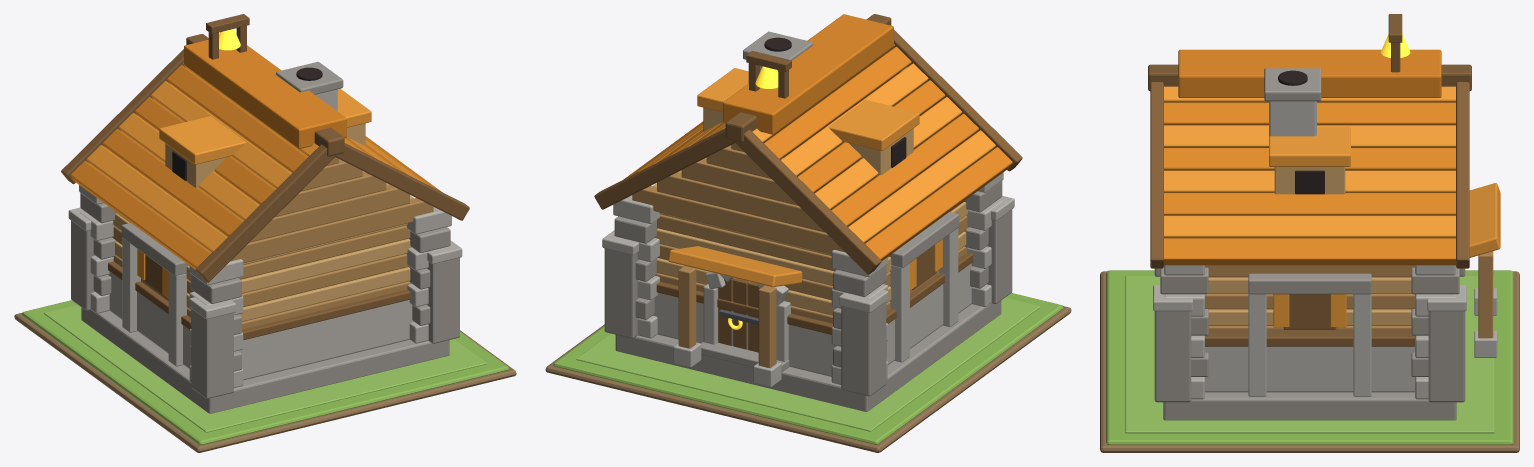
File: town_hall_lv3.glb
3 views of the same model, side by side, from view 1: azimuth 30°, elevation 25°; view 2: azimuth 150°, elevation 25°; view 3: azimuth 270°, elevation 25° (orthographic). The views are drawn at different scales.
Parts seen in each view (by area): view 1: StoneWainscot, StoneFoundation, Base_Inner, UpperRidgeTier, Base_Grass, Base_Dirt, Gable_-1_0, RoofSlope_-1_7, RoofSlope_-1_6, RoofSlope_-1_1, RoofSlope_-1_5, Bargeboard_-1_-1 (+34 smaller); view 2: Base_Inner, Base_Grass, UpperRidgeTier, StoneFoundation, StoneWainscot, Base_Dirt, Gable_1_0, RoofSlope_-1_7, RoofSlope_-1_6, RoofSlope_-1_1, RoofSlope_-1_5, CornerButtress_-1_1 (+46 smaller); view 3: Base_Inner, Base_Grass, UpperRidgeTier, RoofSlope_1_7, StoneWainscot, StoneFoundation, RoofSlope_1_6, RoofSlope_1_5, Base_Dirt, RoofSlope_1_1, RoofSlope_1_4, RoofSlope_1_2 (+36 smaller).
Part boxes in pixels (box(x1,y1,x2,y2)): StoneWainscot: box(108, 272, 413, 380); StoneFoundation: box(81, 307, 449, 413); Base_Inner: box(44, 304, 486, 432); UpperRidgeTier: box(184, 39, 346, 148); Base_Grass: box(22, 300, 508, 444); Base_Dirt: box(14, 313, 516, 452); Gable_-1_0: box(230, 198, 433, 263); RoofSlope_-1_7: box(70, 161, 211, 269); RoofSlope_-1_6: box(86, 145, 227, 252); RoofSlope_-1_1: box(167, 65, 307, 172); RoofSlope_-1_5: box(102, 129, 243, 236); Bargeboard_-1_-1: box(195, 144, 335, 282); Base_Inner: box(576, 297, 1040, 431); Base_Grass: box(553, 293, 1063, 444); UpperRidgeTier: box(723, 14, 893, 134); StoneFoundation: box(615, 301, 1001, 411); StoneWainscot: box(653, 263, 972, 376); Base_Dirt: box(545, 306, 1071, 452); Gable_1_0: box(632, 186, 844, 254); RoofSlope_-1_7: box(865, 147, 1012, 260); RoofSlope_-1_6: box(848, 130, 995, 243); RoofSlope_-1_1: box(764, 46, 911, 159); RoofSlope_-1_5: box(831, 113, 978, 226); CornerButtress_-1_1: box(841, 302, 886, 396); Base_Inner: box(1125, 276, 1494, 433); Base_Grass: box(1106, 270, 1513, 444); UpperRidgeTier: box(1178, 49, 1441, 97); RoofSlope_1_7: box(1164, 238, 1455, 265); StoneWainscot: box(1205, 346, 1414, 392); StoneFoundation: box(1163, 392, 1456, 420); RoofSlope_1_6: box(1164, 215, 1455, 238); RoofSlope_1_5: box(1164, 193, 1455, 215); Base_Dirt: box(1100, 271, 1519, 452); RoofSlope_1_1: box(1164, 102, 1455, 125); RoofSlope_1_4: box(1164, 170, 1455, 192); RoofSlope_1_2: box(1164, 125, 1455, 147).
Bounding box in the file's own units: 3.68 × 3.3 × 3.68.
